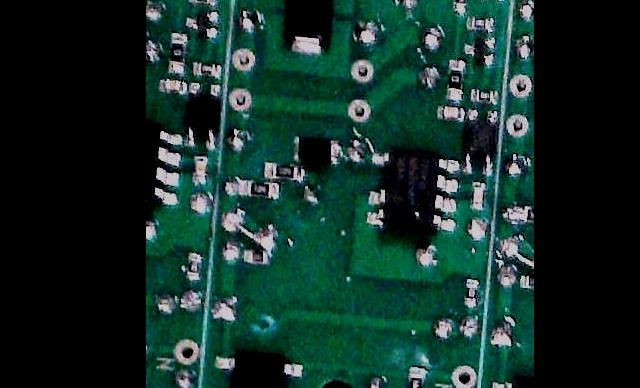chip-capacitor: (191, 151, 209, 185), (470, 180, 489, 210), (436, 103, 467, 119), (158, 77, 186, 93)
chip-resistor: (445, 56, 467, 102), (167, 34, 188, 72), (237, 180, 280, 198), (265, 163, 303, 180), (462, 275, 481, 308), (405, 363, 428, 388), (185, 250, 203, 280), (244, 245, 272, 264), (465, 14, 496, 31), (468, 87, 500, 103), (191, 61, 223, 77), (452, 0, 469, 13), (188, 0, 219, 3)
diode: (283, 0, 337, 54), (292, 134, 344, 162)
ic: (366, 148, 462, 233), (210, 349, 307, 388), (462, 106, 502, 175), (184, 80, 223, 148)
transistor: (184, 8, 221, 41), (462, 33, 498, 66)
